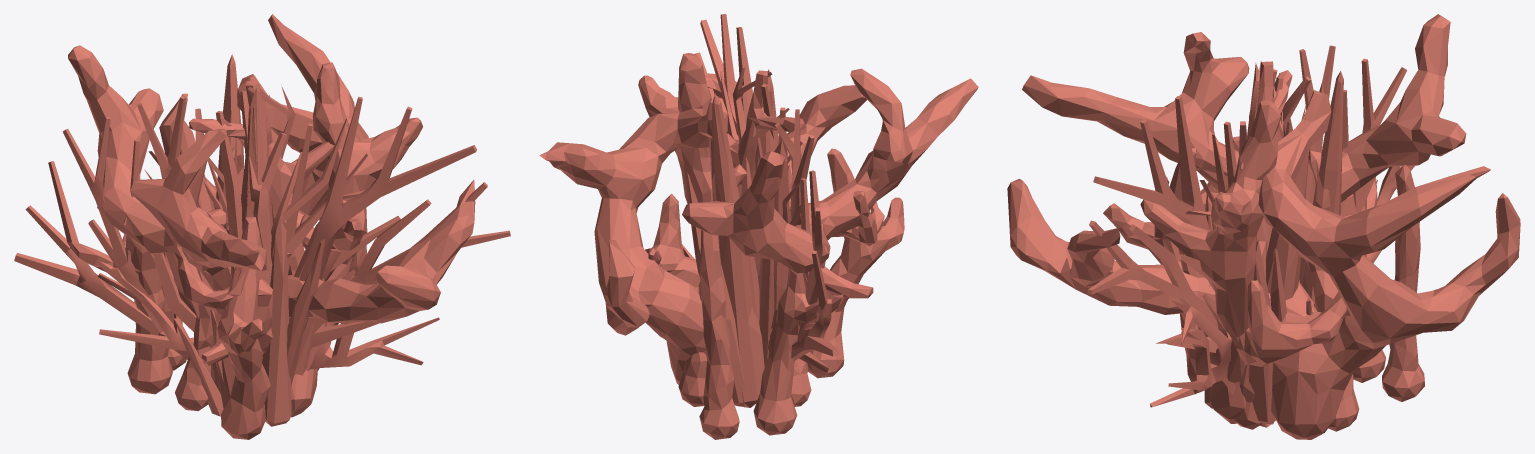
The model's file is coral-modules.glb.
The picture shows the model from 3 angles, left to right: view 1: azimuth 30°, elevation 25°; view 2: azimuth 150°, elevation 25°; view 3: azimuth 270°, elevation 25°; orthographic projection. The views are drawn at different scales.
Parts seen in each view (by area): view 1: coral-0, coral-3, coral-2, coral-4, coral-6, coral-1, coral-5; view 2: coral-0, coral-2, coral-5, coral-3, coral-1, coral-6, coral-4; view 3: coral-0, coral-2, coral-3, coral-1, coral-4, coral-6, coral-5.
Part boxes in pixels (x1,y1,x2,y2): coral-0: (68,14,475,323); coral-3: (14,90,510,380); coral-2: (68,62,422,439); coral-4: (97,86,439,370); coral-6: (173,87,324,426); coral-1: (173,80,366,365); coral-5: (210,54,325,393); coral-0: (539,68,978,384); coral-2: (638,53,904,439); coral-5: (712,83,825,407); coral-3: (675,14,838,360); coral-1: (645,70,884,298); coral-6: (685,69,817,372); coral-4: (682,68,831,372); coral-0: (1007,14,1520,439); coral-2: (1103,100,1424,431); coral-3: (1087,45,1414,352); coral-1: (1166,61,1346,429); coral-4: (1150,61,1377,427); coral-6: (1204,62,1324,424); coral-5: (1178,71,1343,355).
Bounding box in the file's own units: 1.06 × 1 × 1.33.
